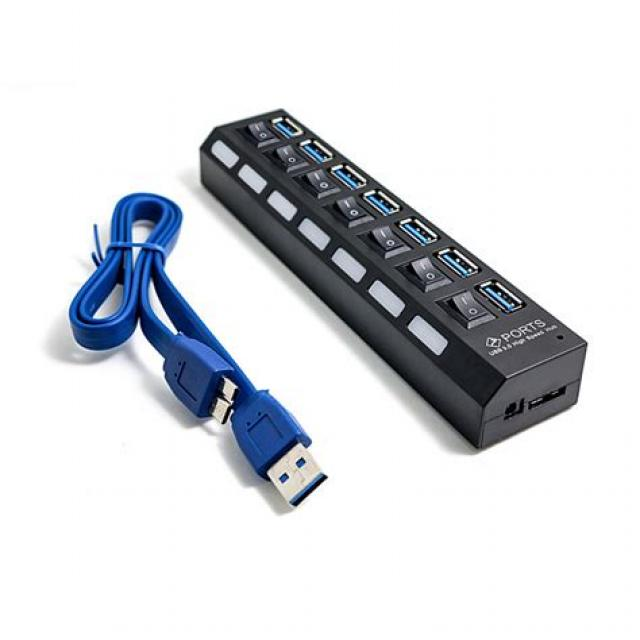usb port: (477, 275, 524, 312), (398, 213, 435, 247), (356, 185, 398, 213), (437, 242, 474, 271), (329, 162, 366, 188), (268, 110, 300, 136), (301, 139, 332, 159)
